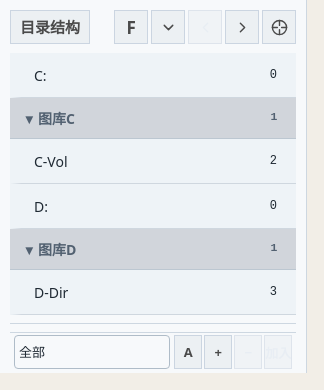
it: SidebarPanel music interactions › 多盘符场景下折叠会对所有目标父级节点生效
Click the button named "折叠全部含图父级": (168, 27) [151,10,185,44]
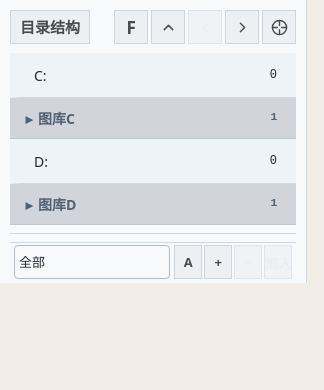
Expected: the button "▸ 图库C 1" is shown, [10,98,296,138]
Expected: the button "C-Vol" is gone
Expected: the button "D-Dir" is gone
